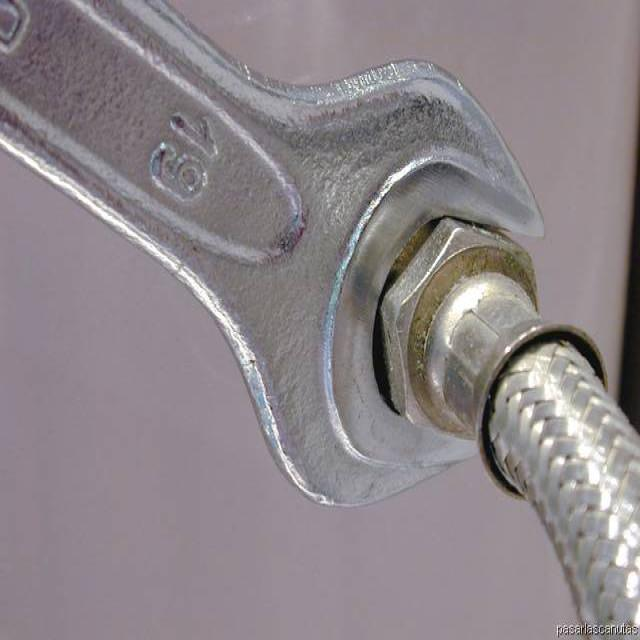spanner: (0, 0, 542, 505)
